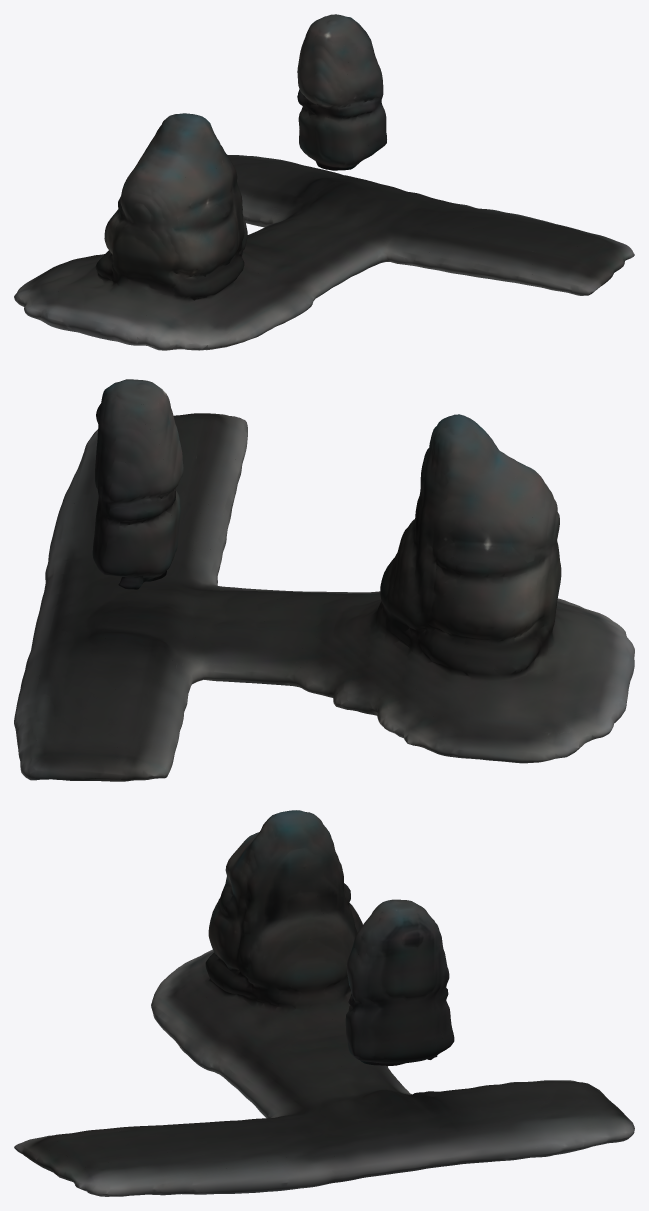
Rendered from triposr_recon.glb.
3 views of the same model, one above another, from view 1: azimuth 30°, elevation 25°; view 2: azimuth 150°, elevation 25°; view 3: azimuth 270°, elevation 25° (orthographic). The views are drawn at different scales.
Visible parts, largest first — view 1: world; view 2: world; view 3: world.
Part boxes in pixels (x1=…): world: x1=14, y1=14, x2=634, y2=350; world: x1=14, y1=379, x2=634, y2=781; world: x1=14, y1=810, x2=634, y2=1196.
Size of the model in its own units: 0.2837 by 0.1194 by 0.2704.
1 material, 1 textured.
